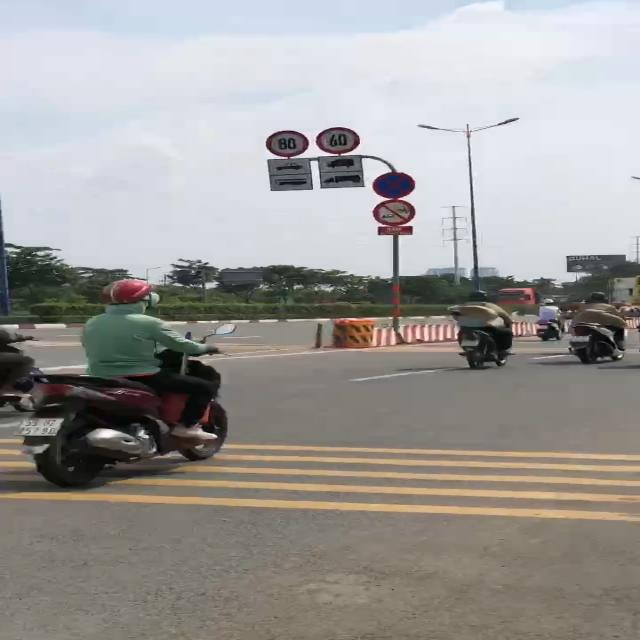Bien bao cam dung xe va do xe: (371, 170, 420, 200)
Bien bao toc do toi da cho phep: (314, 127, 365, 155), (263, 129, 313, 157)
